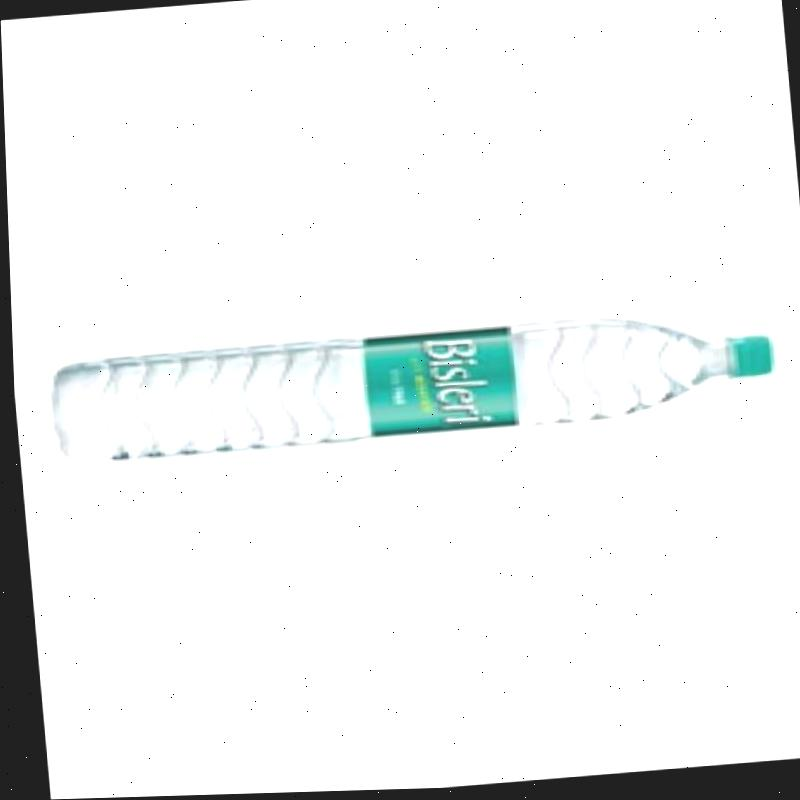botella: (48, 310, 775, 466)
